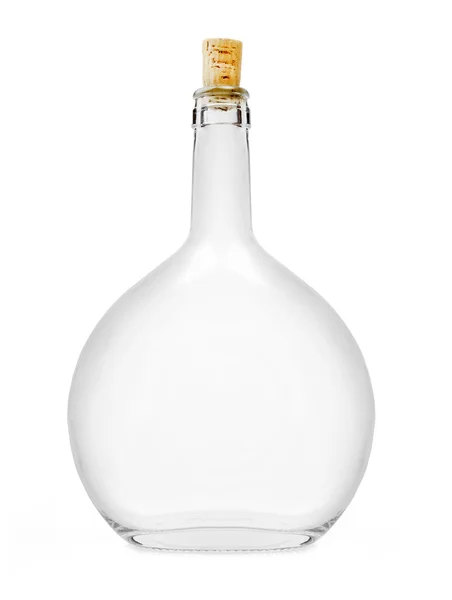glass_bottle: (48, 26, 402, 564)
